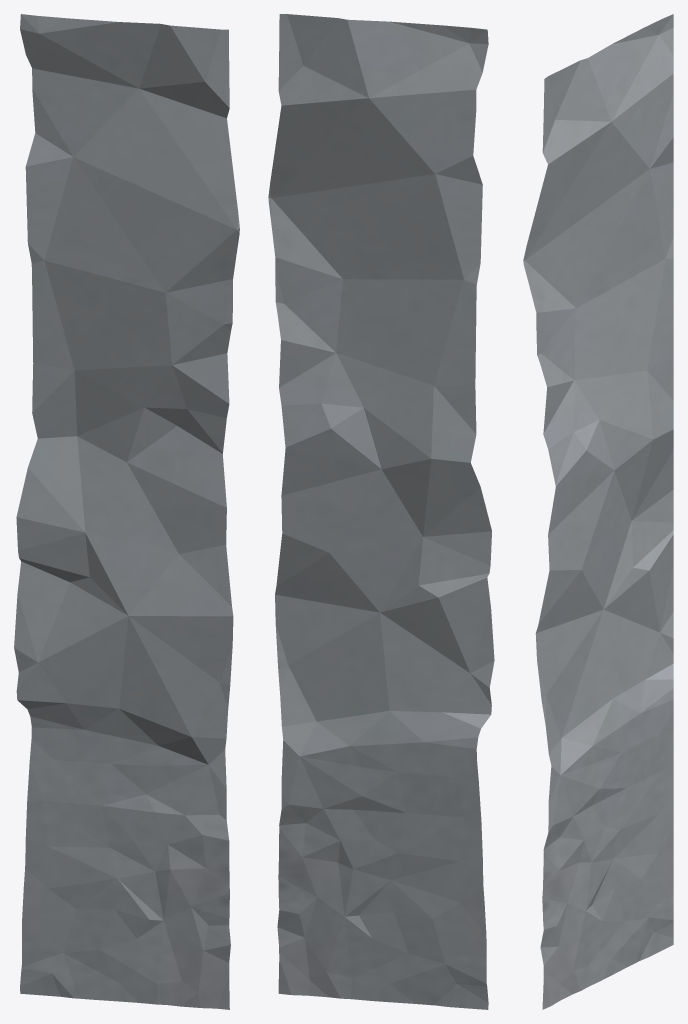
3 views of the same model, side by side, from view 1: azimuth 30°, elevation 25°; view 2: azimuth 210°, elevation 25°; view 3: azimuth 270°, elevation 25° (orthographic). The views are drawn at different scales.
Bounding box in the file's own units: 0.1313 × 0.8374 × 0.1225.
1 material, 1 textured.
